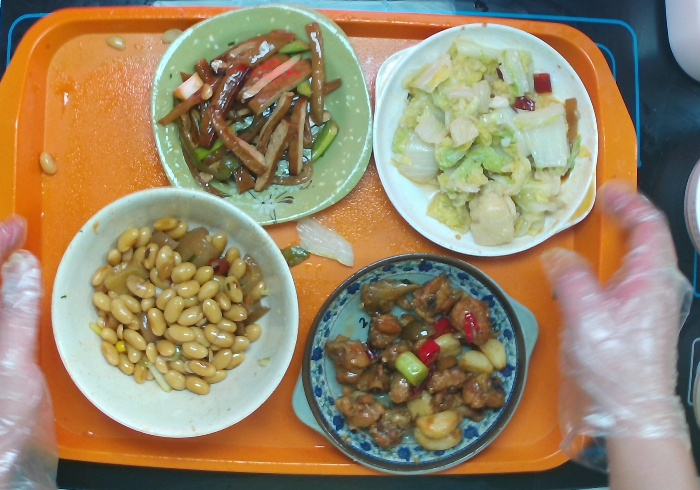NLDX-Bai_Se_Shuang_Er_Die: (366, 19, 600, 260)
NLDX-Bai_Se_Yuan_Wan: (49, 185, 303, 439)
NLDX-Lv_Hua_Fang_Die: (146, 1, 377, 229)
NLDX-Qing_Hua_Shuang_Er_Die: (287, 251, 541, 480)
